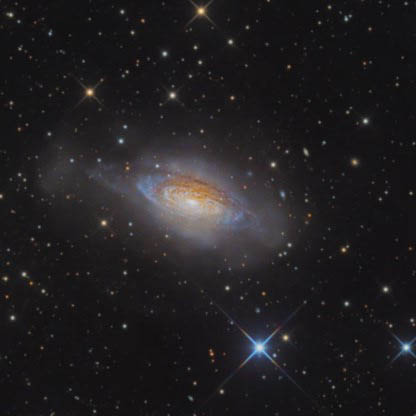NGC 3521: (96, 88, 304, 301)
